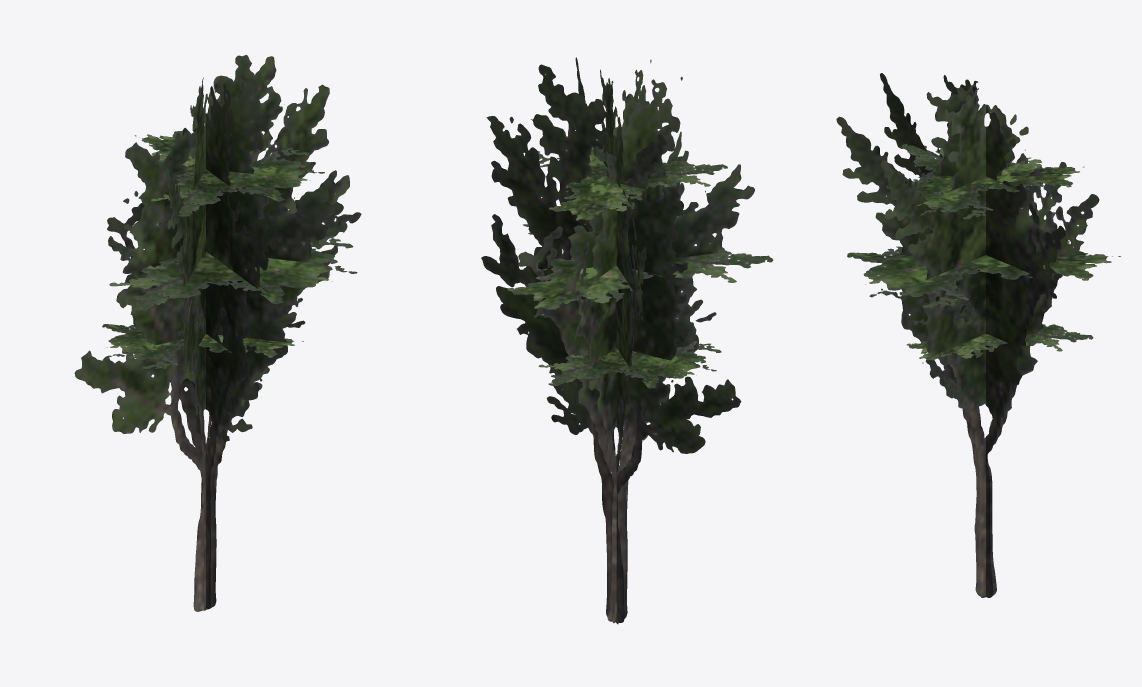
3 renders of one model, left to right at view 1: azimuth 30°, elevation 25°; view 2: azimuth 150°, elevation 25°; view 3: azimuth 270°, elevation 25°, orthographic. The views are drawn at different scales.
Bounding box in the file's own units: 6.28 × 11.18 × 5.66.
1 material, 1 textured.
